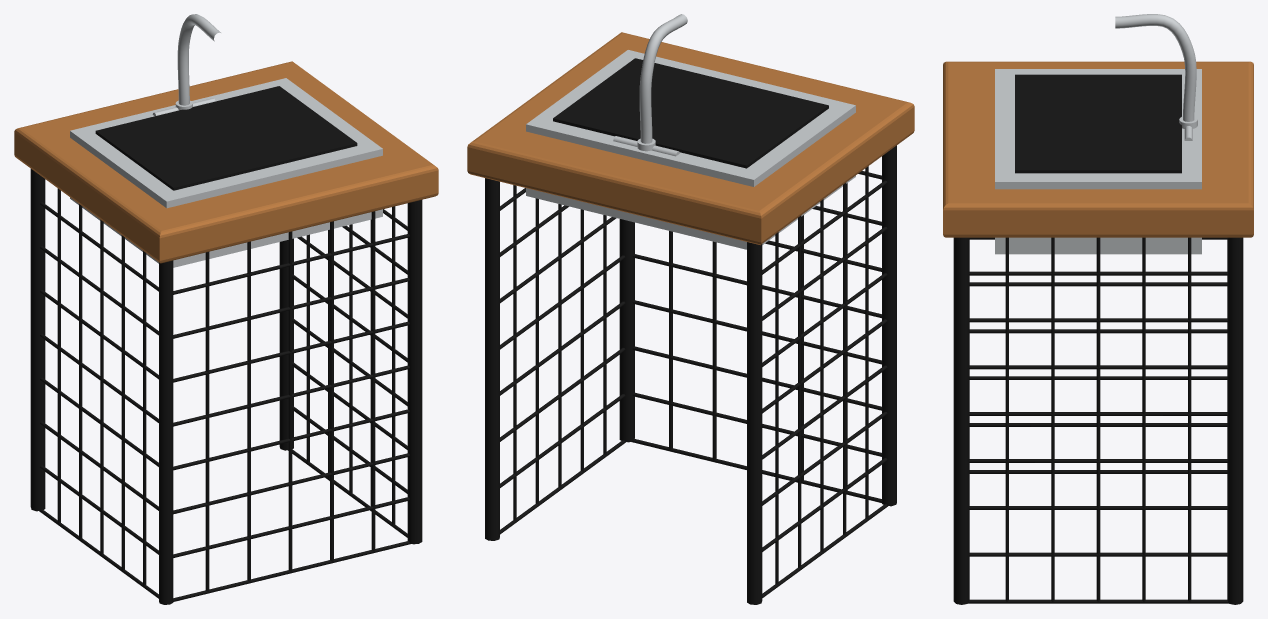
Rendered from sink-cabinet-440.glb.
3 views of the same model, side by side, from view 1: azimuth 30°, elevation 25°; view 2: azimuth 150°, elevation 25°; view 3: azimuth 270°, elevation 25° (orthographic). The views are drawn at different scales.
Parts seen in each view (by area): view 1: wood_rim, sink_basin_interior, sink_basin, post_4, post_1, post_3, post_2, part_18, part_14, part_16, faucet_neck, part_15 (+25 smaller); view 2: wood_rim, sink_basin_interior, sink_basin, post_1, post_2, post_3, post_4, faucet_neck, part_31, part_33, part_30, part_32 (+28 smaller); view 3: wood_rim, sink_basin_interior, sink_basin, post_2, post_4, faucet_neck, part_48, part_47, part_49, part_46, part_50, part_36 (+12 smaller).
Part boxes in pixels (<box>): wood_rim: <box>14,61,438,263</box>; sink_basin_interior: <box>95,86,357,190</box>; sink_basin: <box>70,78,382,267</box>; post_4: <box>407,200,422,544</box>; post_1: <box>30,169,45,511</box>; post_3: <box>159,260,173,604</box>; post_2: <box>279,238,293,450</box>; part_18: <box>371,211,375,551</box>; part_14: <box>205,252,209,592</box>; part_16: <box>288,231,292,571</box>; faucet_neck: <box>177,14,220,105</box>; part_15: <box>247,241,250,581</box>; wood_rim: <box>467,32,914,245</box>; sink_basin_interior: <box>553,58,828,168</box>; sink_basin: <box>526,50,855,249</box>; post_1: <box>747,242,762,604</box>; post_2: <box>485,178,499,540</box>; post_3: <box>882,145,896,506</box>; post_4: <box>619,219,634,442</box>; faucet_neck: <box>639,14,687,143</box>; part_31: <box>843,182,846,535</box>; part_33: <box>798,215,801,568</box>; part_30: <box>865,166,868,519</box>; part_32: <box>820,199,823,552</box>; wood_rim: <box>943,61,1253,237</box>; sink_basin_interior: <box>1015,74,1181,173</box>; sink_basin: <box>995,69,1201,254</box>; post_2: <box>1227,237,1243,604</box>; post_4: <box>953,237,969,604</box>; faucet_neck: <box>1115,14,1196,121</box>; part_48: <box>1096,237,1100,601</box>; part_47: <box>1051,237,1054,601</box>; part_49: <box>1142,237,1145,601</box>; part_46: <box>1005,237,1008,602</box>; part_50: <box>1188,237,1191,602</box>; part_36: <box>968,599,1228,603</box>.
Size of the model in its own units: 0.516 by 0.8657 by 0.466.
